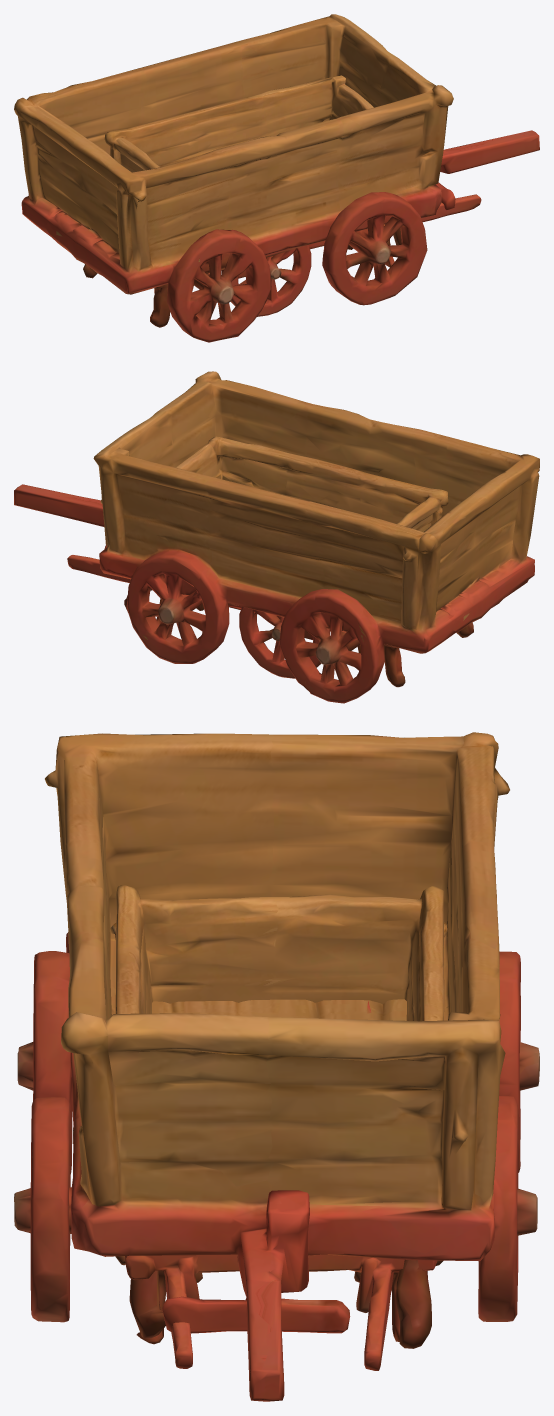
The model's file is charrettes.glb.
3 renders of one model, top to bottom at view 1: azimuth 30°, elevation 25°; view 2: azimuth 150°, elevation 25°; view 3: azimuth 270°, elevation 25°, orthographic. The views are drawn at different scales.
Parts seen in each view (by area): view 1: remorque-agricole, charrette-a-bras; view 2: remorque-agricole, charrette-a-bras; view 3: remorque-agricole, charrette-a-bras.
Boxes of the visible parts, x1=… form: remorque-agricole: x1=14, y1=14, x2=539, y2=342; charrette-a-bras: x1=104, y1=75, x2=481, y2=316; remorque-agricole: x1=14, y1=371, x2=539, y2=703; charrette-a-bras: x1=67, y1=436, x2=448, y2=678; remorque-agricole: x1=14, y1=732, x2=539, y2=1401; charrette-a-bras: x1=73, y1=885, x2=447, y2=1370.
Size of the model in its own units: 3 by 1.16 by 1.51.
1 material, 1 textured.
